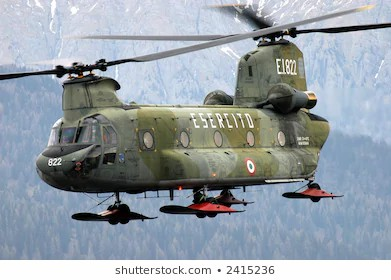chinook: (27, 35, 361, 223)
